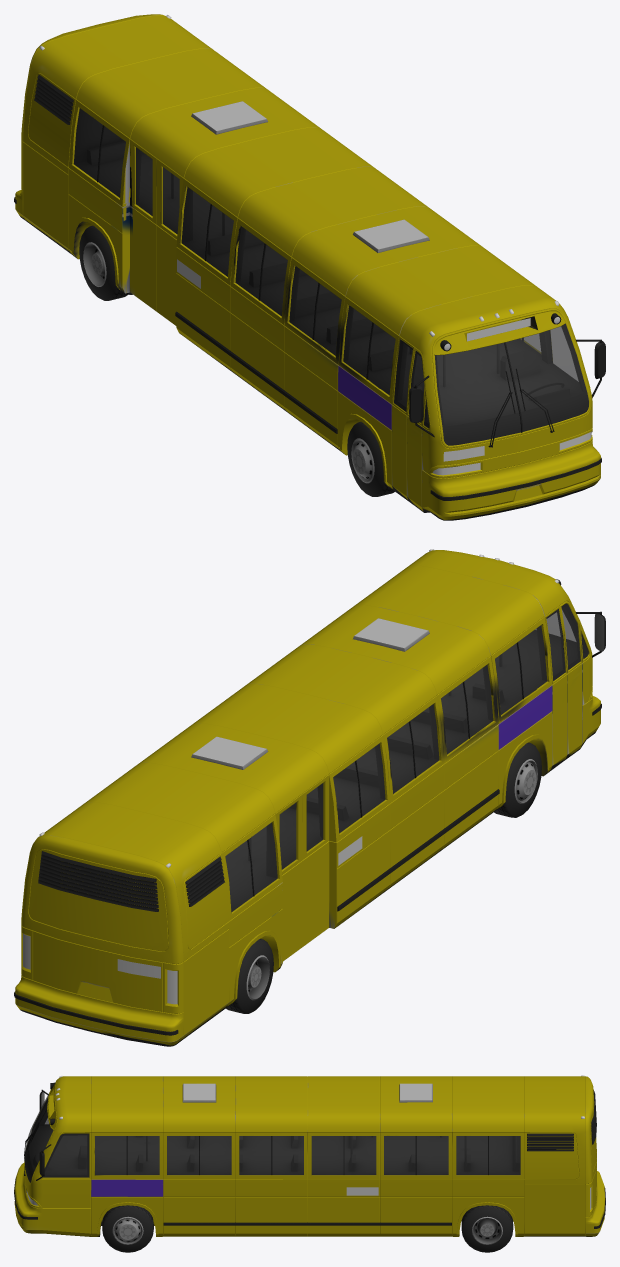
File: onibus.fbx
3 views of the same model, one above another, from view 1: azimuth 30°, elevation 25°; view 2: azimuth 150°, elevation 25°; view 3: azimuth 270°, elevation 25° (orthographic). The views are drawn at different scales.
Visible parts, largest first — view 1: citybus; view 2: citybus; view 3: citybus.
Boxes of the visible parts, bbox=[...] form: citybus: bbox=[14, 14, 605, 520]; citybus: bbox=[14, 549, 605, 1046]; citybus: bbox=[14, 1075, 605, 1252].
Bounding box in the file's own units: 265 × 263 × 1040.
